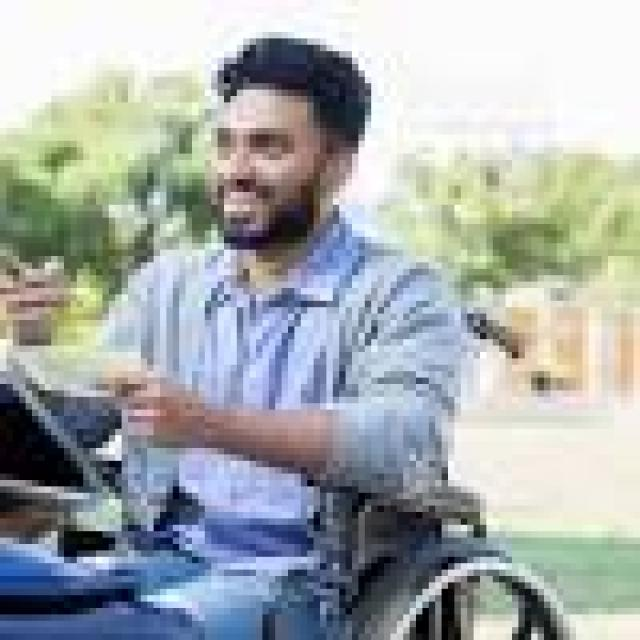wheelchairs: (19, 268, 550, 634)
